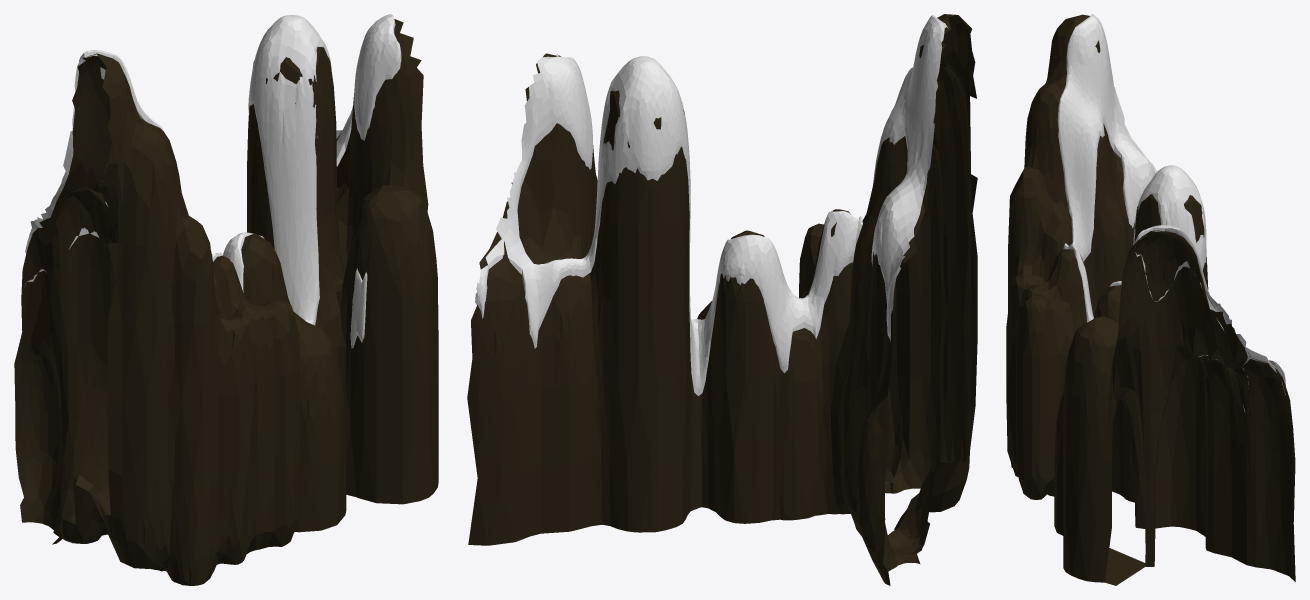
The model's file is Mtn_Corner_NE_M.fbx.
3 views of the same model, side by side, from view 1: azimuth 30°, elevation 25°; view 2: azimuth 150°, elevation 25°; view 3: azimuth 270°, elevation 25° (orthographic). The views are drawn at different scales.
Visible parts, largest first — view 1: Mtn_Corner_NE_M; view 2: Mtn_Corner_NE_M; view 3: Mtn_Corner_NE_M.
Boxes of the visible parts, x1=… form: Mtn_Corner_NE_M: x1=14, y1=14, x2=438, y2=585; Mtn_Corner_NE_M: x1=467, y1=14, x2=977, y2=585; Mtn_Corner_NE_M: x1=1006, y1=14, x2=1295, y2=585.
Bounding box in the file's own units: 16287 × 21673 × 13314.
